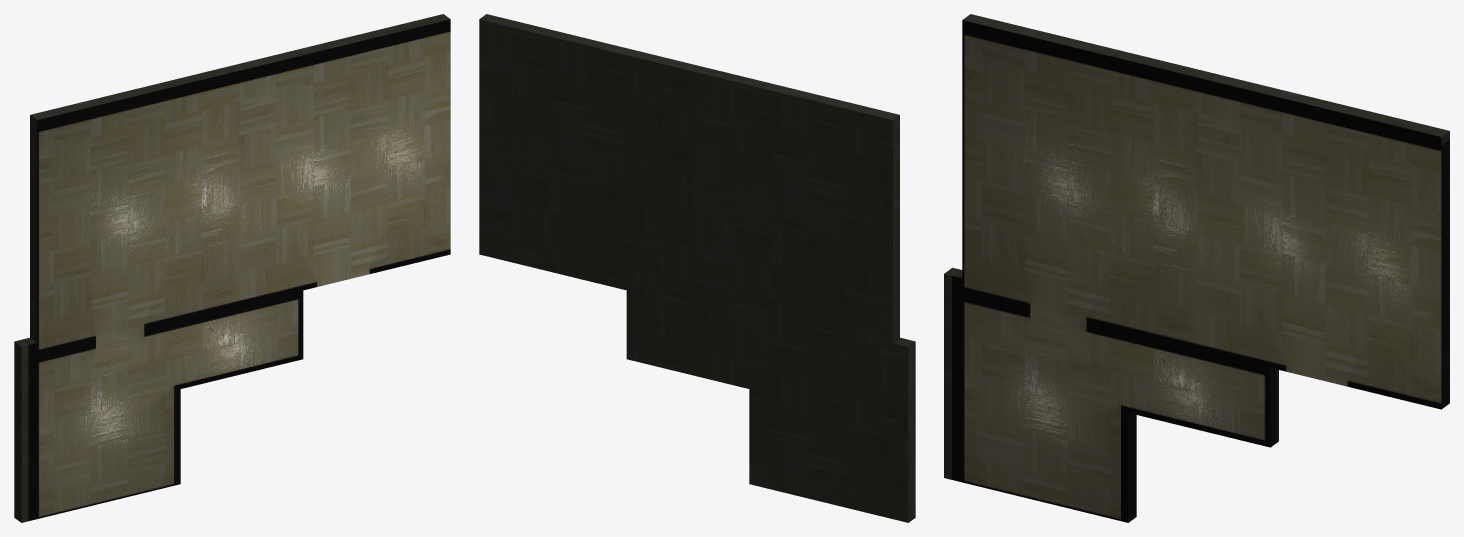
Rendered from floor_2_vm.obj.
3 renders of one model, left to right at view 1: azimuth 30°, elevation 25°; view 2: azimuth 150°, elevation 25°; view 3: azimuth 330°, elevation 25°, orthographic. The views are drawn at different scales.
Size of the model in its own units: 6.86 by 6.09 by 0.2.
Materials: 1 (1 with a texture image).
